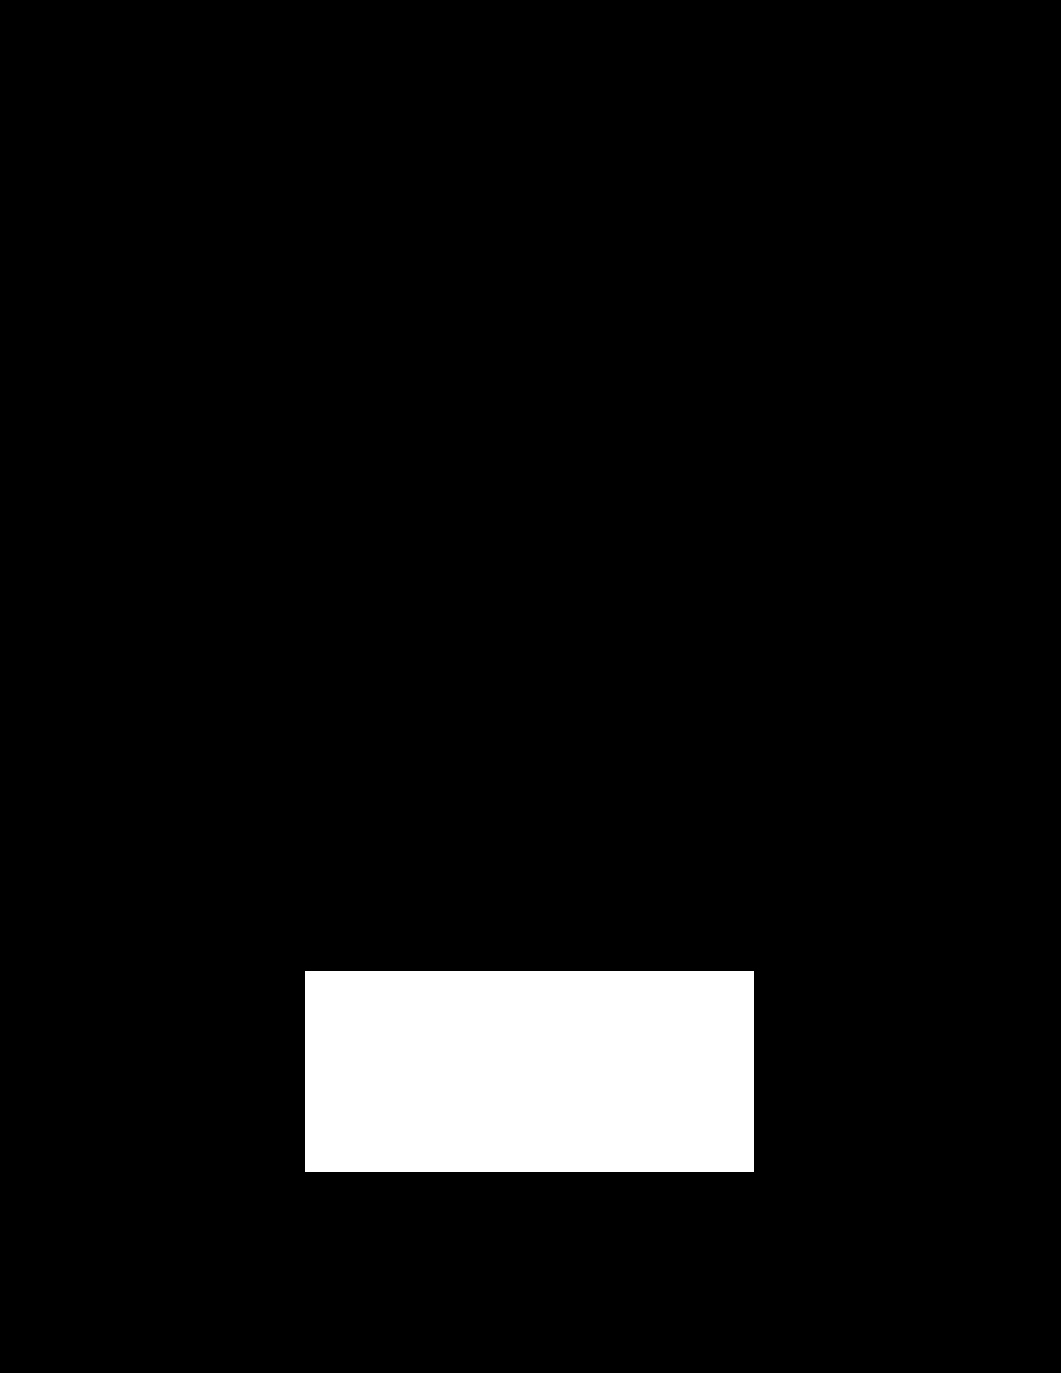table: (305, 971, 753, 1171)
